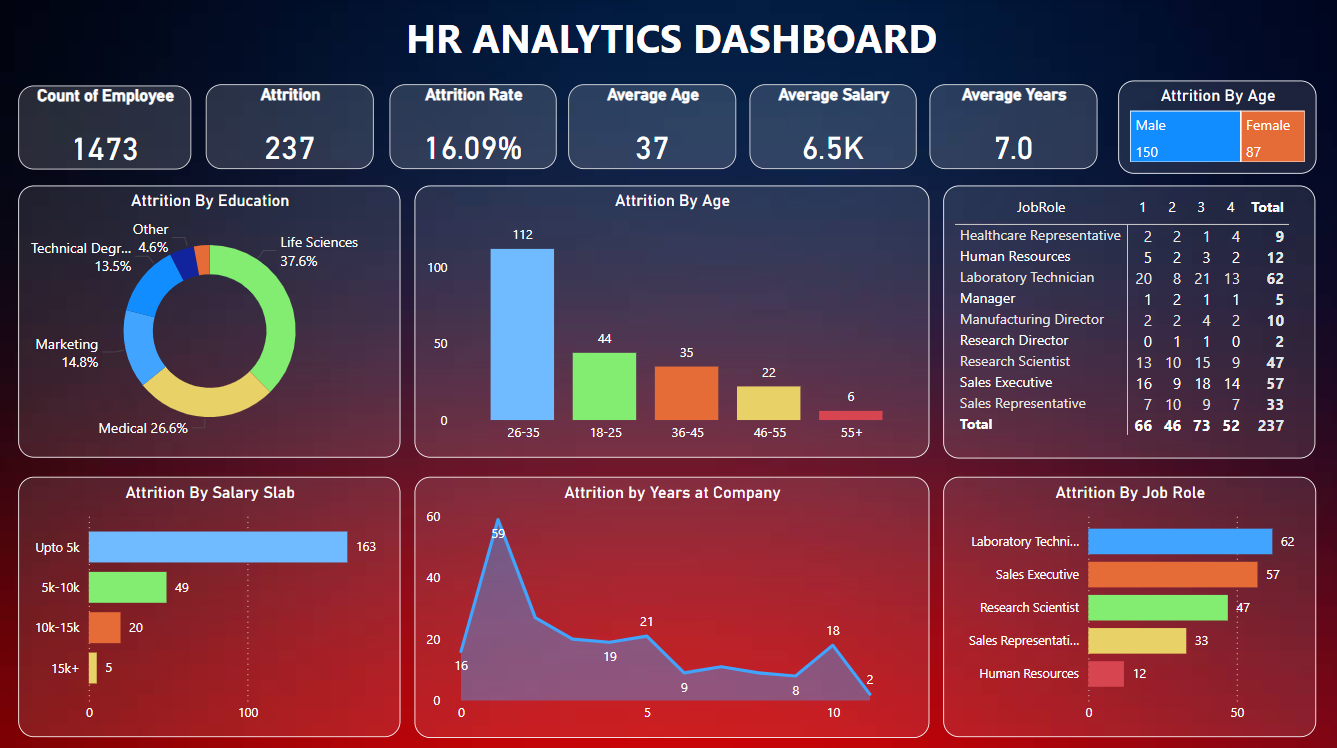

This screenshot's page, from the dashboard's own definition file:
{"tool":"powerbi","page":{"name":"Page 1","canvas":[1280,720],"ordinal":0},"visuals":[{"type":"cardVisual","title":"Count of Employee","fields":{"Data":["CountNonNull(HR_Analytics.EmpID)"]},"box":[20,83.8,165,80],"z":0},{"type":"cardVisual","title":"Attrition","fields":{"Data":["Sum(HR_Analytics.AttritionCount)"]},"box":[199.2,82.7,160,80.9],"z":1000},{"type":"cardVisual","title":"Attrition Rate","fields":{"Data":["HR_Analytics.AttritionRate"]},"box":[373.7,82.7,159.1,80.9],"z":2000},{"type":"cardVisual","title":"Average Age","fields":{"Data":["Avg(HR_Analytics.Age)"]},"box":[544.6,82.7,160,80.9],"z":3000},{"type":"cardVisual","title":"Average Salary","fields":{"Data":["Avg(HR_Analytics.MonthlyIncome)"]},"box":[716.5,82.7,159.1,80.9],"z":4000},{"type":"cardVisual","title":"Average Years","fields":{"Data":["Avg(HR_Analytics.YearsAtCompany)"]},"box":[888.3,82.7,160,80.9],"z":5000},{"type":"donutChart","title":"Attrition By Education","fields":{"Category":["HR_Analytics.EducationField"],"Y":["Sum(HR_Analytics.AttritionCount)"]},"box":[20,179.2,364.2,259.2],"z":6000},{"type":"treemap","title":"Attrition By Age","fields":{"Group":["HR_Analytics.Gender"],"Values":["Sum(HR_Analytics.AttritionCount)"]},"box":[1067.5,78.8,188.8,88.8],"z":7000},{"type":"pivotTable","title":"Job","fields":{"Rows":["HR_Analytics.JobRole"],"Columns":["HR_Analytics.JobSatisfaction"],"Values":["Sum(HR_Analytics.AttritionCount)"]},"box":[901.7,178.3,354.2,260],"z":8000},{"type":"barChart","title":"Attrition By Salary Slab","fields":{"Category":["HR_Analytics.SalarySlab"],"Y":["Sum(HR_Analytics.AttritionCount)"]},"box":[20,455.8,364.2,248.3],"z":9000},{"type":"barChart","title":"Attrition By Job Role","fields":{"Y":["Sum(HR_Analytics.AttritionCount)"],"Category":["HR_Analytics.JobRole"]},"box":[901.7,455.8,355,248.3],"z":10000},{"type":"areaChart","title":"Attrition by Years at Company","fields":{"Category":["HR_Analytics.YearsAtCompany"],"Y":["Sum(HR_Analytics.AttritionCount)"]},"box":[397.8,455.6,490,248.9],"z":11000},{"type":"columnChart","title":"Attrition By Age","fields":{"Category":["HR_Analytics.AgeGroup"],"Y":["Sum(HR_Analytics.AttritionCount)"]},"box":[397.5,179.2,490,259.2],"z":12000},{"type":"textbox","box":[377.5,6.9,530,67.5],"z":13000}]}

Visuals, with their boxes in screenshot pixels (x1, y1, x2, y2), scaled from the page's 1280x720 canvas onto the 1337x748 screenshot:
"Count of Employee" cardVisual: [21,87,193,170]
"Attrition" cardVisual: [208,86,375,170]
"Attrition Rate" cardVisual: [390,86,557,170]
"Average Age" cardVisual: [569,86,736,170]
"Average Salary" cardVisual: [748,86,915,170]
"Average Years" cardVisual: [928,86,1095,170]
"Attrition By Education" donutChart: [21,186,401,455]
"Attrition By Age" treemap: [1115,82,1312,174]
"Job" pivotTable: [942,185,1312,455]
"Attrition By Salary Slab" barChart: [21,474,401,731]
"Attrition By Job Role" barChart: [942,474,1313,731]
"Attrition by Years at Company" areaChart: [416,473,927,732]
"Attrition By Age" columnChart: [415,186,927,455]
textbox: [394,7,948,77]
